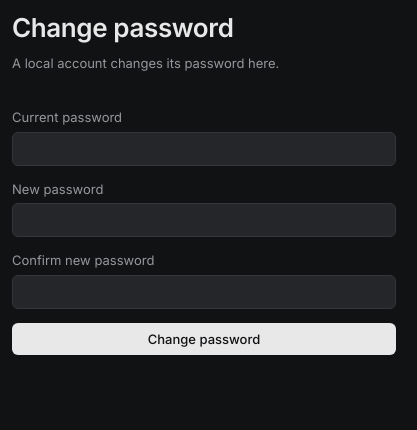
Scenario: PasswordChange › reloads the account and returns to the safe path
The image size is (417, 430).
Type "old-password-1" into the password field labelled "Current password".
click(204, 148); type("old-password-1")  # box x1=12 y1=132 x2=396 y2=166
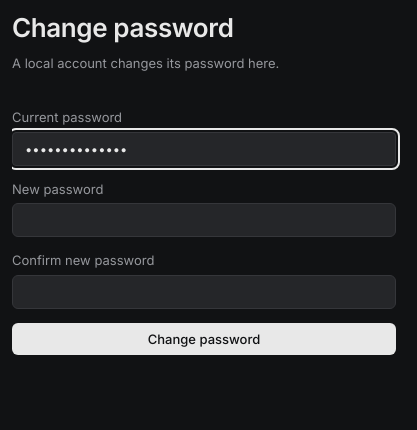
Type "new-password-1" into the password field labelled "New password".
click(204, 220); type("new-password-1")  # box x1=12 y1=203 x2=396 y2=237
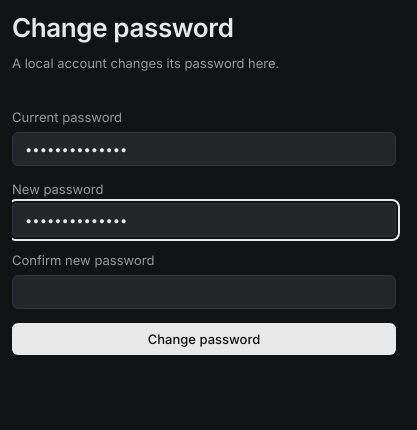
Type "new-password-1" into the password field labelled "Confirm new password".
click(204, 292); type("new-password-1")  # box x1=12 y1=274 x2=396 y2=308
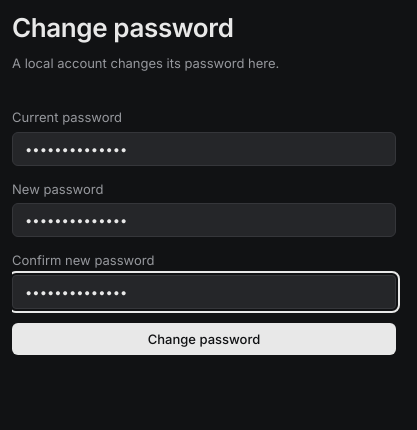
Click the button "Change password".
click(204, 338)  # box x1=12 y1=322 x2=396 y2=354
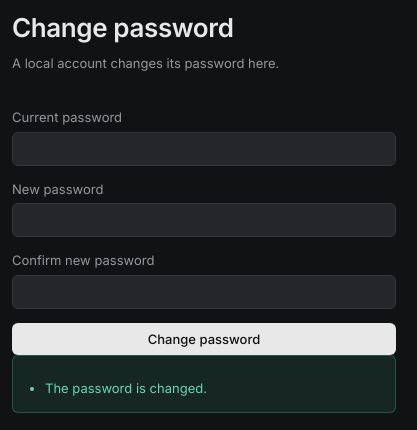
Check: the message reads "The password is changed.", box x1=45 y1=380 x2=207 y2=396
